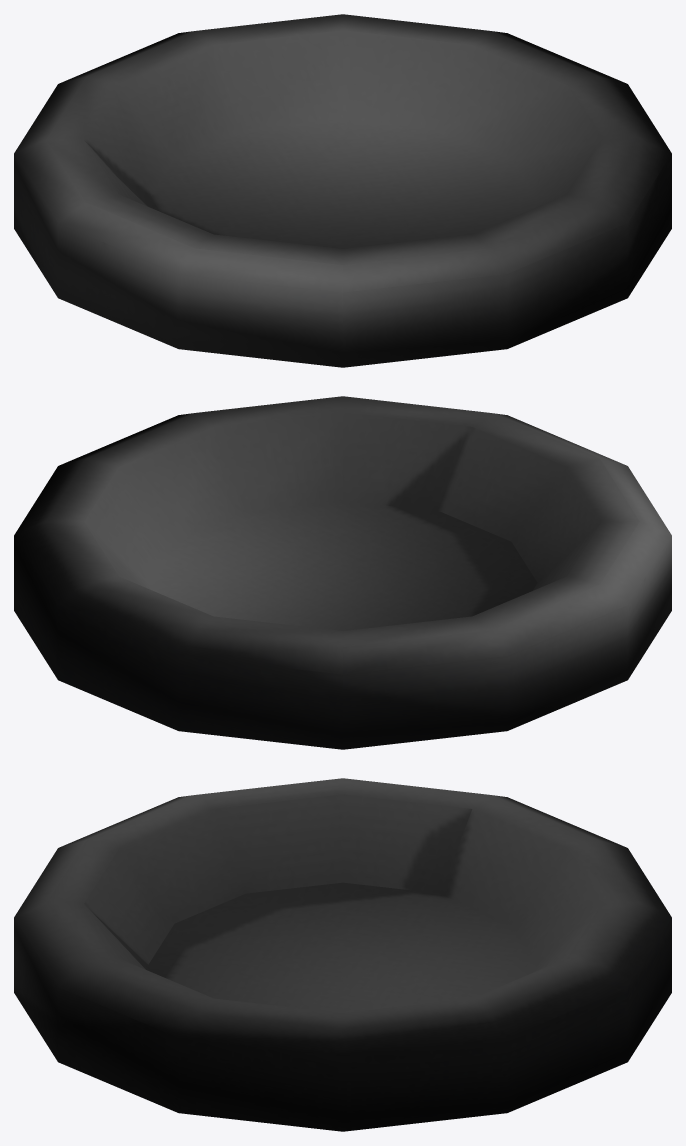
The model's file is gameButtonFrame.obj.
3 views of the same model, one above another, from view 1: azimuth 30°, elevation 25°; view 2: azimuth 150°, elevation 25°; view 3: azimuth 270°, elevation 25° (orthographic).
Parts seen in each view (by area): view 1: gameButtonFrameLow; view 2: gameButtonFrameLow; view 3: gameButtonFrameLow.
Part boxes in pixels (x1,y1,x2,y2): gameButtonFrameLow: (14,14,671,367); gameButtonFrameLow: (14,396,671,749); gameButtonFrameLow: (14,778,671,1131).
Bounding box in the file's own units: 56.17 × 8.39 × 56.17.
1 material, 1 textured.
